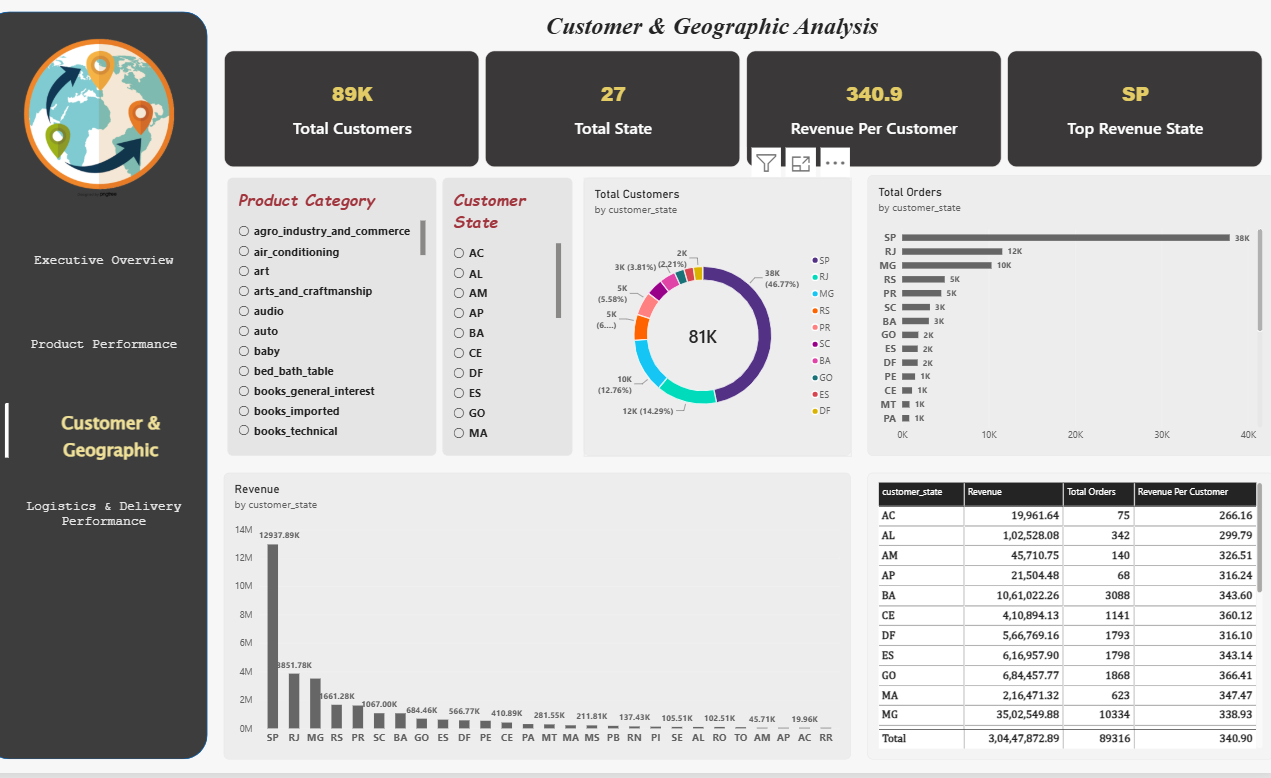

Layout of this report page (visuals, bound fields, positions):
{"tool":"powerbi","page":{"name":"Customer & Geographic","canvas":[2000,1200],"ordinal":2},"visuals":[{"type":"textbox","box":[334.6,18.8,1585.4,54.4],"z":0},{"type":"shape","box":[0,19.6,345.2,1160.4],"z":1},{"type":"image","box":[22.5,43.2,300.7,271.7],"z":2},{"type":"cardVisual","fields":{"Data":["df_Customers.Total Customers","df_Customers.Total State","df_Customers.Revenue Per Customer","df_Customers.Top Revenue State"]},"box":[370.9,79.3,1614.5,182.2],"z":3},{"type":"listSlicer","title":"Customer State","fields":{"Values":["df_Customers.customer_state"]},"box":[709,278,201.6,431],"z":4},{"type":"listSlicer","title":"Product Category","fields":{"Values":["df_Products.product_category_name"]},"box":[375.4,278,324.4,431],"z":5},{"type":"columnChart","title":"Revenue by States","fields":{"Category":["df_Customers.customer_state"],"Y":["df_Customers.Revenue"]},"box":[370.7,734.5,973.1,444.9],"z":6},{"type":"barChart","title":"Orders By States","fields":{"Y":["df_Customers.Total Orders"],"Category":["df_Customers.customer_state"]},"box":[1369.3,273.4,630.2,435.6],"z":7},{"type":"donutChart","title":"Customers By States","fields":{"Category":["df_Customers.customer_state"],"Y":["df_Customers.Total Customers"]},"box":[929.1,278,414.7,431],"z":8},{"type":"tableEx","fields":{"Values":["df_Customers.customer_state","df_Customers.Revenue","df_Customers.Total Orders","df_Customers.Revenue Per Customer"]},"box":[1369.3,734.5,630.2,444.9],"z":9},{"type":"pageNavigator","box":[11.6,345.2,345.2,519.8],"z":10}]}

Visuals, with their boxes on the page's 2000x1200 design canvas (x1, y1, x2, y2). These are canvas units, not pixel positions in the 1271x778 screenshot, which may show the page scaled, cropped or inside an application window:
textbox: 335/19/1920/73
shape: 0/20/345/1180
image: 22/43/323/315
cardVisual - df_Customers.Total Customers x df_Customers.Total State: 371/79/1985/262
"Customer State" listSlicer: 709/278/911/709
"Product Category" listSlicer: 375/278/700/709
"Revenue by States" columnChart: 371/734/1344/1179
"Orders By States" barChart: 1369/273/2000/709
"Customers By States" donutChart: 929/278/1344/709
tableEx - df_Customers.customer_state x df_Customers.Revenue: 1369/734/2000/1179
pageNavigator: 12/345/357/865
